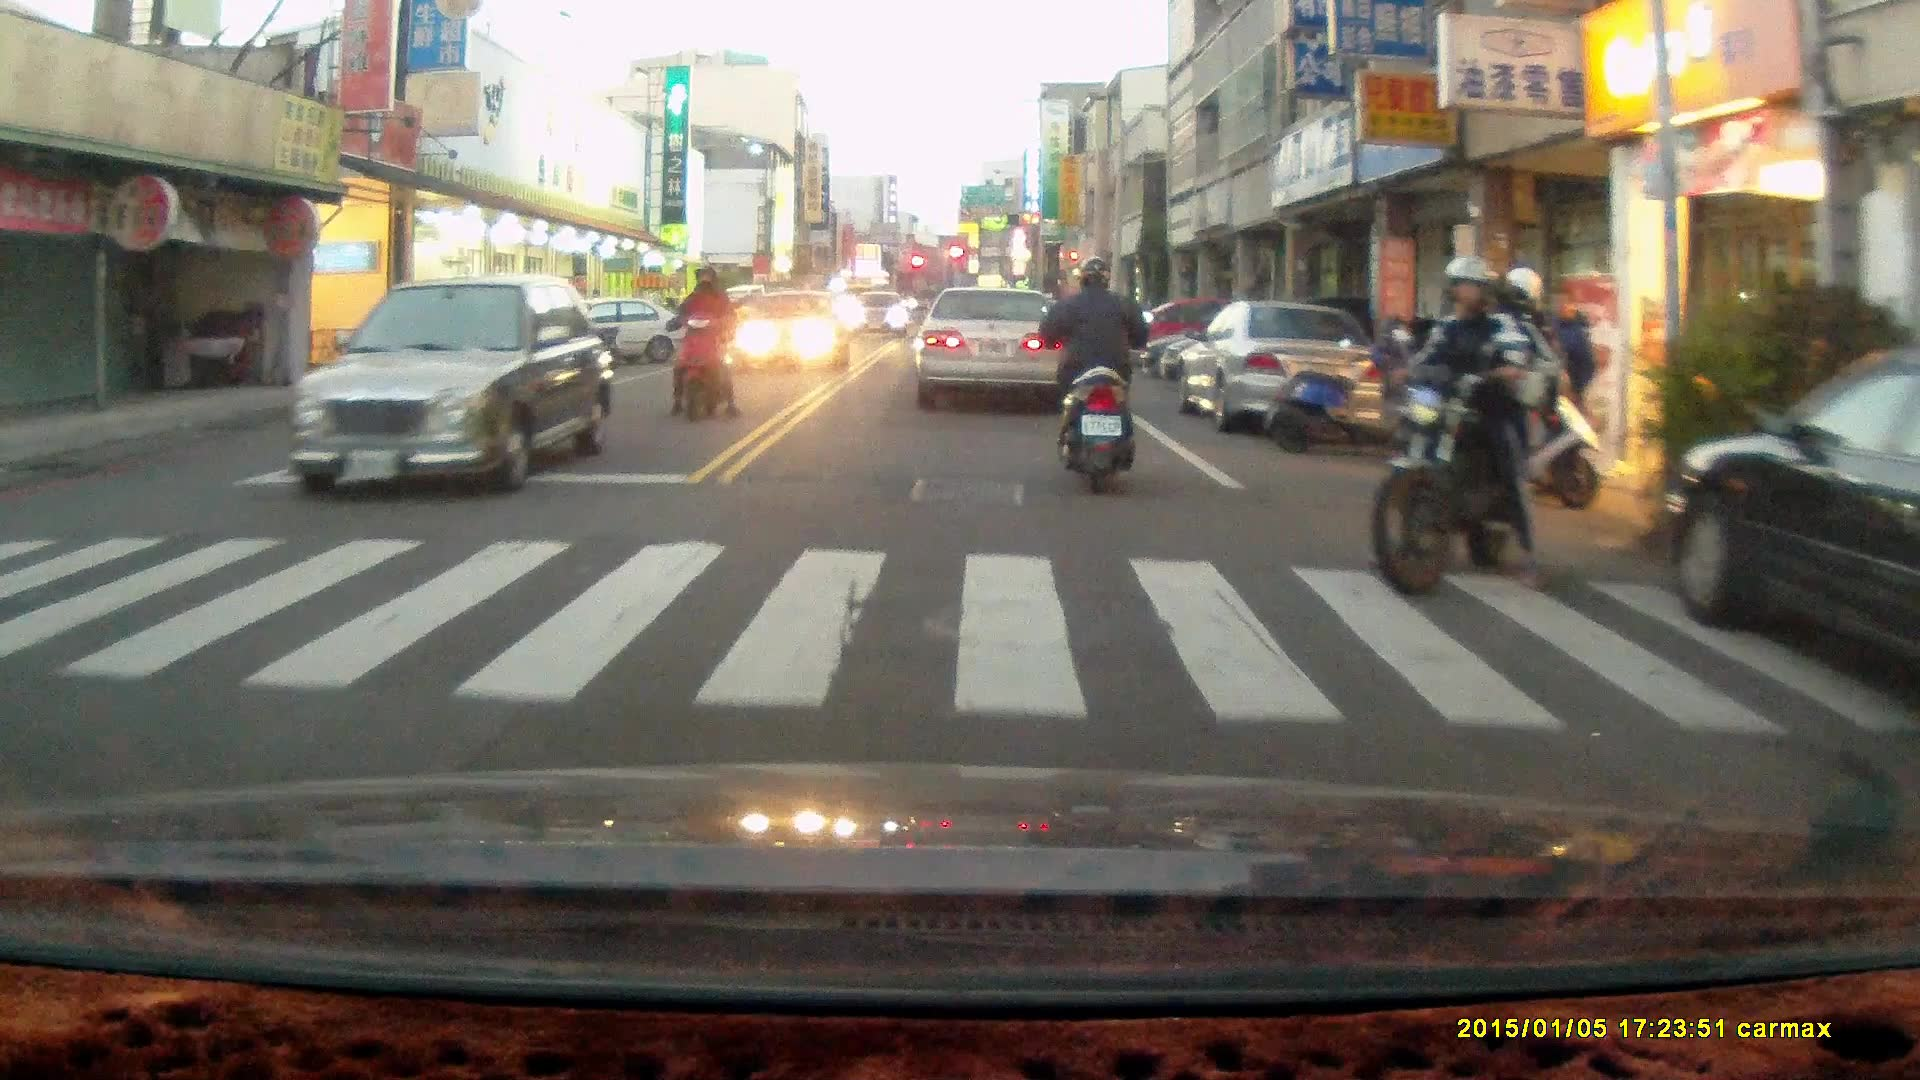pedestrian: (1539, 283, 1597, 474)
rider: (1371, 257, 1566, 588), (1035, 252, 1151, 491), (663, 261, 740, 423)
vehicle: (1657, 339, 1920, 716), (296, 274, 616, 498), (1184, 304, 1395, 439), (919, 287, 1074, 398), (726, 286, 844, 373)
